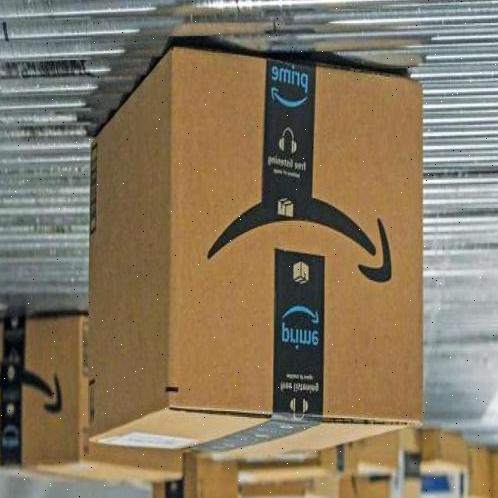Amazon: (88, 39, 423, 442), (0, 322, 165, 489), (151, 453, 236, 498)
